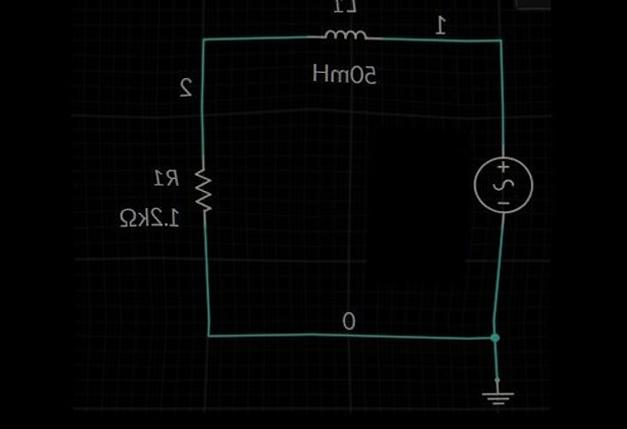Battery: (457, 137, 545, 229)
